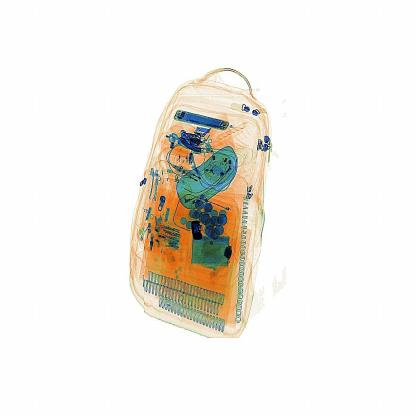pliers: (187, 217, 214, 243)
